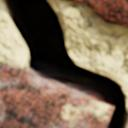brick: (0, 64, 112, 127), (63, 0, 127, 26)
crack: (1, 0, 126, 127)
